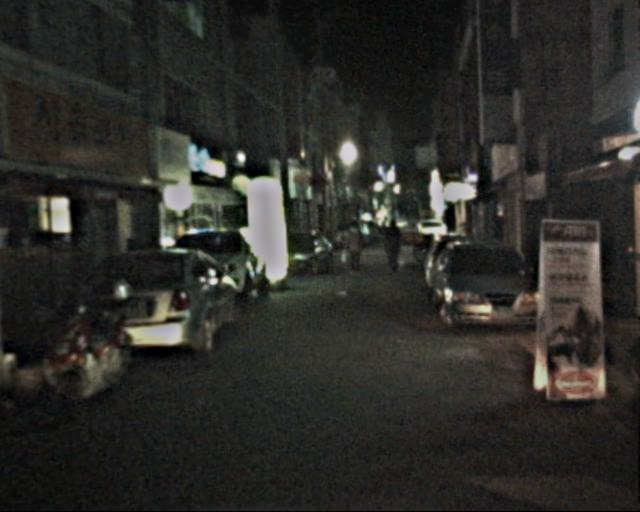person: (343, 219, 368, 281), (381, 218, 406, 280)
